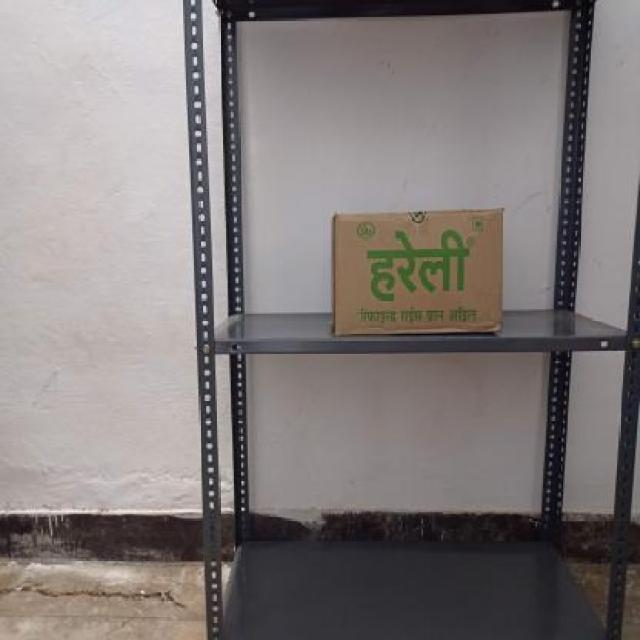box: (330, 211, 502, 331)
